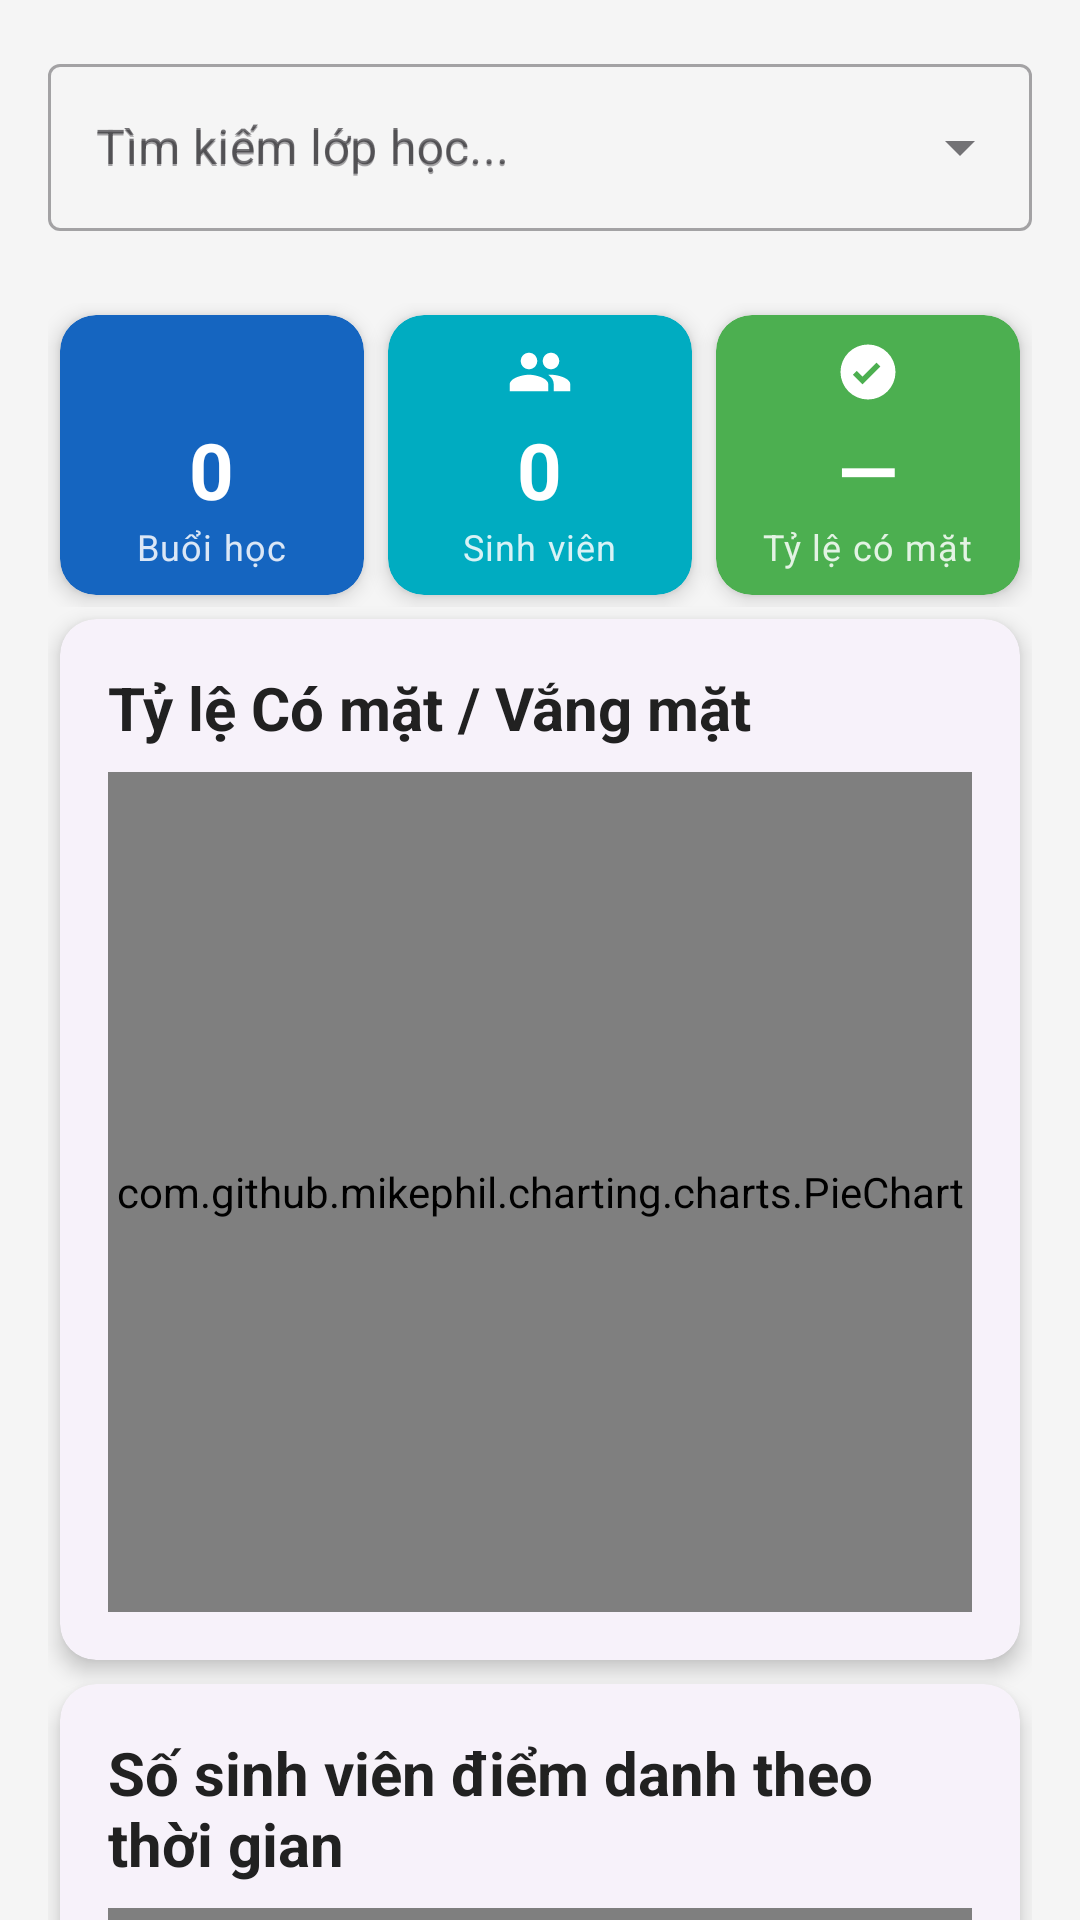

Icon click points for this 1080*1920 phone screenshot, format (x,y):
check circle: (868,372)
people: (540,372)
